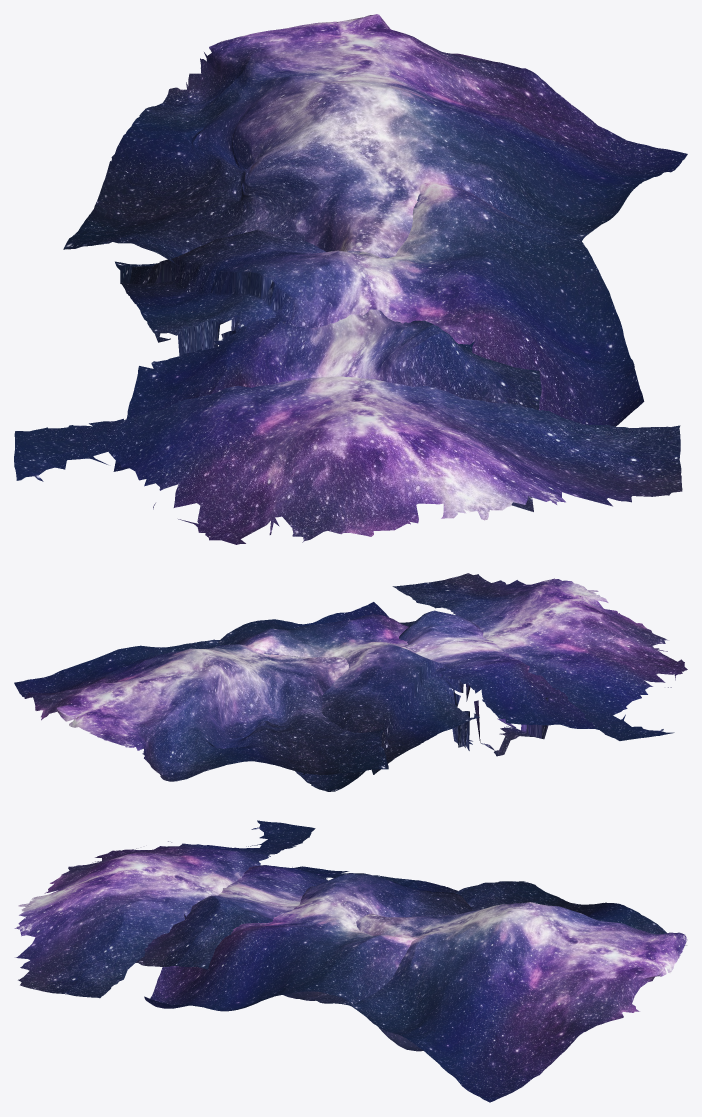
The model's file is After_Effect_Room_1_Part_3_with_texture.fbx.
3 views of the same model, one above another, from view 1: azimuth 30°, elevation 25°; view 2: azimuth 150°, elevation 25°; view 3: azimuth 270°, elevation 25° (orthographic). The views are drawn at different scales.
Visible parts, largest first — view 1: Hills_00; view 2: Hills_00; view 3: Hills_00.
Boxes of the visible parts, left/top/right/bottom form: Hills_00: left=14, top=14, right=687, bottom=544; Hills_00: left=14, top=573, right=687, bottom=791; Hills_00: left=14, top=820, right=687, bottom=1102.
Bounding box in the file's own units: 514 × 523 × 107.
